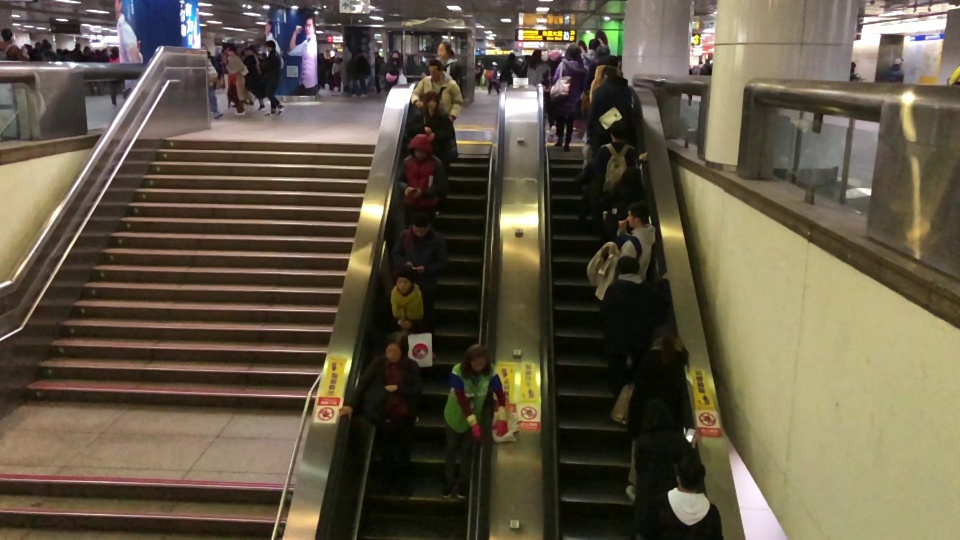person_head: (672, 455, 706, 492), (640, 397, 674, 433), (381, 330, 410, 364), (464, 341, 492, 372), (626, 199, 651, 229), (614, 253, 642, 278), (394, 264, 416, 294), (407, 207, 431, 234), (408, 133, 431, 159), (652, 326, 674, 353), (618, 166, 642, 189), (609, 120, 628, 143), (422, 90, 440, 112), (428, 59, 444, 81), (437, 41, 452, 59), (565, 43, 580, 61), (600, 64, 618, 78), (587, 37, 600, 53), (265, 39, 278, 53), (548, 49, 562, 62), (1, 26, 12, 42), (390, 48, 401, 64), (596, 46, 608, 60), (531, 48, 542, 63), (892, 57, 904, 69), (507, 52, 518, 62), (110, 45, 119, 57), (850, 60, 857, 73), (228, 46, 236, 57), (201, 43, 206, 54), (491, 60, 497, 67), (705, 56, 710, 63)
person_vbox: (338, 329, 423, 503), (623, 326, 691, 502), (441, 341, 509, 502), (600, 254, 672, 394), (390, 206, 450, 363), (634, 397, 700, 534), (381, 263, 432, 424), (406, 89, 460, 214), (647, 455, 723, 540), (592, 120, 649, 198), (397, 134, 445, 226), (550, 42, 587, 154), (610, 198, 656, 281), (589, 64, 632, 150), (410, 59, 464, 125), (605, 165, 642, 232), (583, 47, 623, 104), (421, 40, 463, 91), (260, 39, 284, 118), (200, 42, 224, 119), (225, 46, 248, 117), (526, 47, 551, 91), (0, 26, 26, 62), (107, 45, 121, 108), (383, 48, 403, 91), (499, 51, 521, 84), (580, 36, 600, 69), (884, 56, 905, 82), (485, 59, 499, 95), (849, 62, 864, 82), (698, 55, 712, 74)
